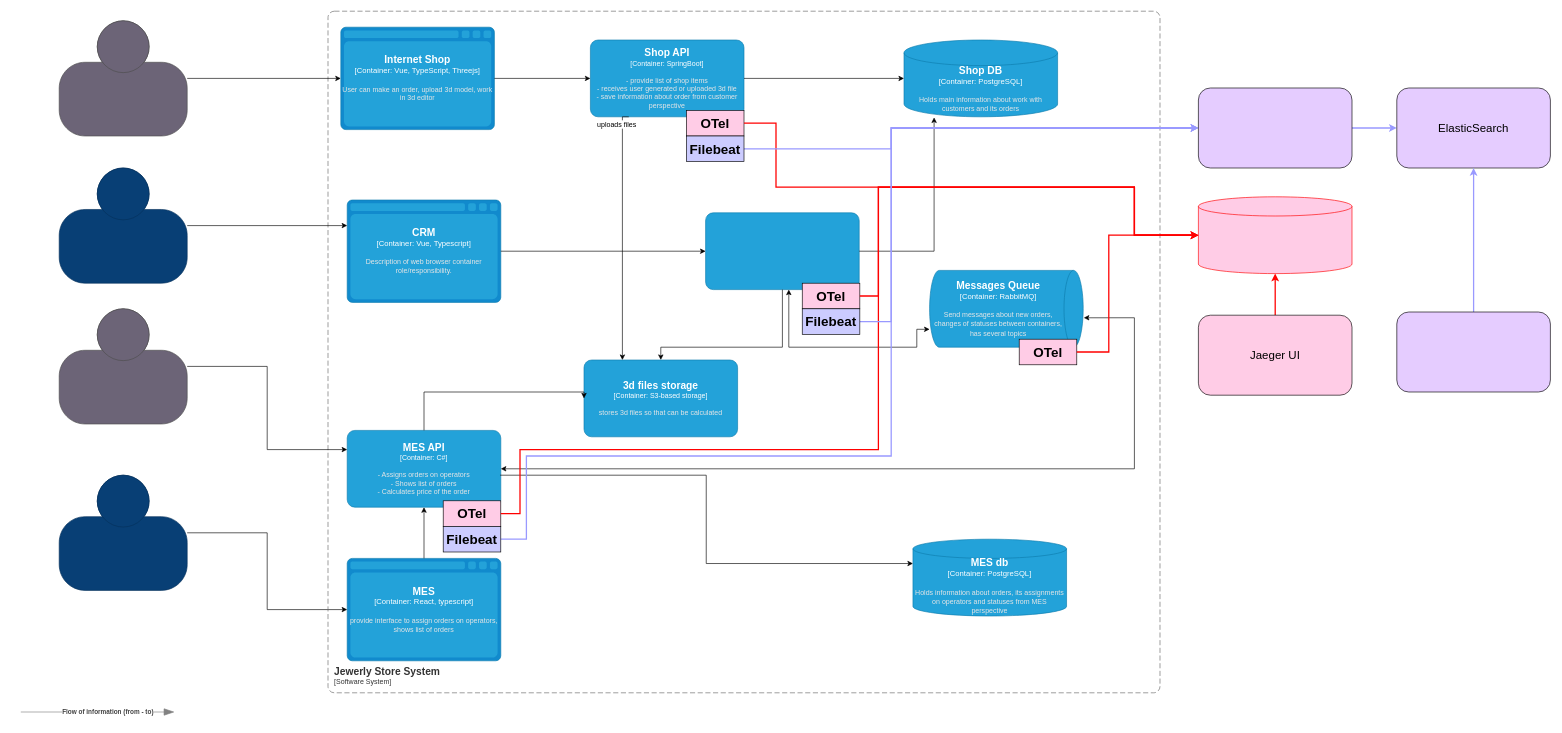
Some shapes in this 1562 by 733 pixel diagram are drawn without their labels. The shapes that lost their labels are listed below. From the top down, each one's centre as x and y in pixels, then its label:
At [123,78]: "Customer [Person] Description of external person.".
At [1275,127]: "Logstash".
At [123,225]: "Seller [Person] Operates with order, confirms manufacturing for the user".
At [1275,235]: "Jaeger DB".
At [782,251]: "CRM API [Container: SpringBoot] Description of container role/responsibility.".
At [123,366]: "API user [Person] Description of external person.".
At [1473,351]: "Kibana".
At [123,532]: "Operator [Person] Takes order in work, manufactures jewerly".
